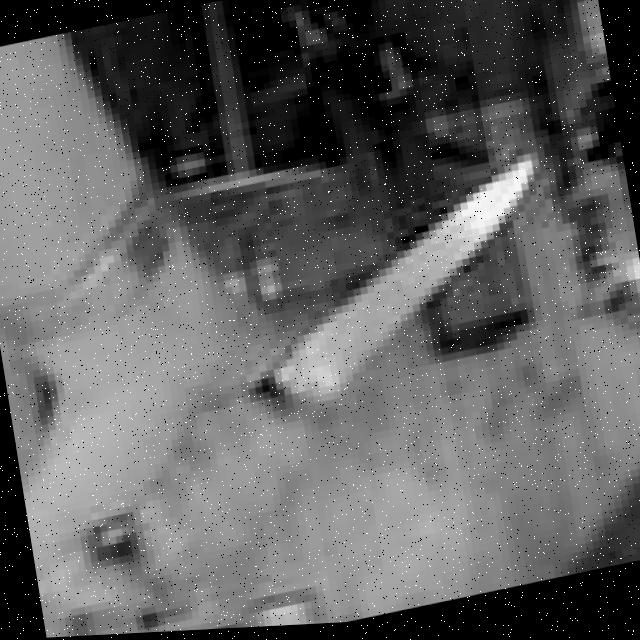knife: (220, 153, 567, 435)
